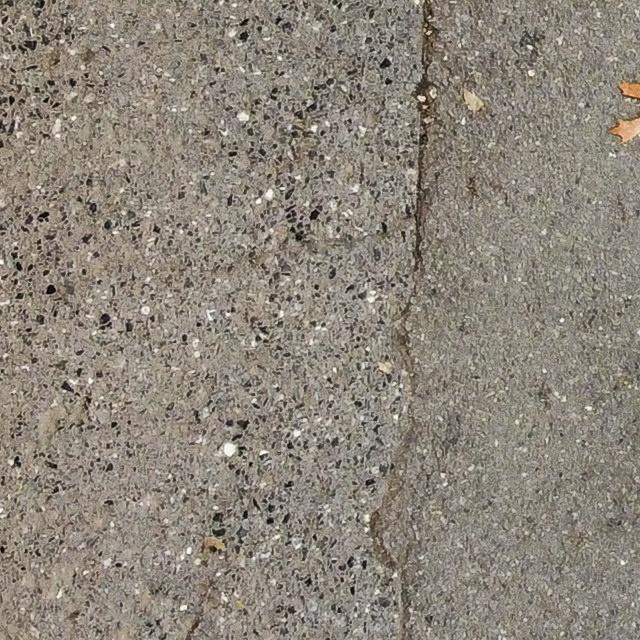LongitudinalCrack: (367, 1, 431, 640)
